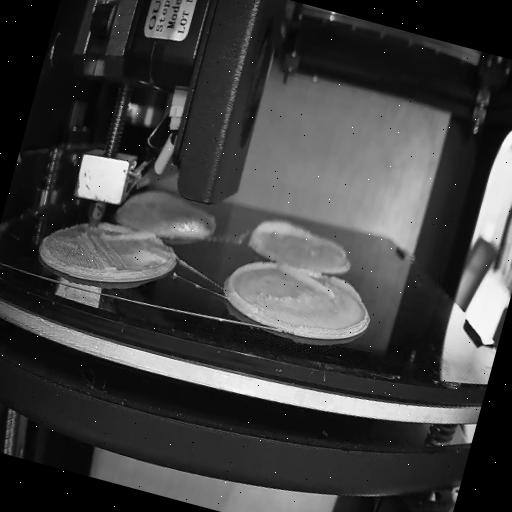over_extrusion: (273, 264, 365, 312), (222, 252, 278, 316), (248, 212, 316, 258), (94, 216, 154, 256), (316, 234, 350, 258)
